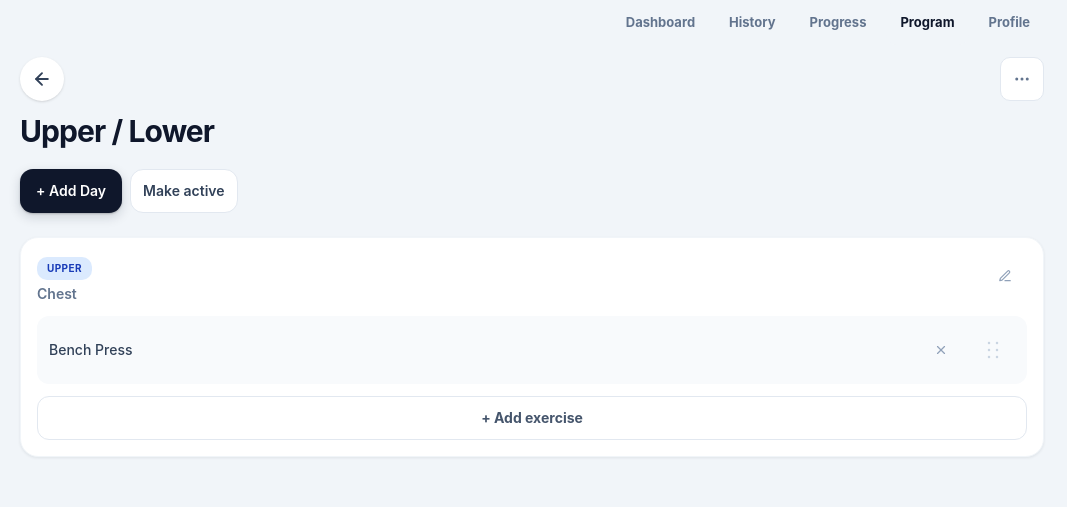
Scenario: program editor page actions › activates an inactive program through the existing safeguard
The image size is (1067, 507).
Click the button named "More actions for Upper / Lower" at (1022, 79), box [1000,57,1044,101]
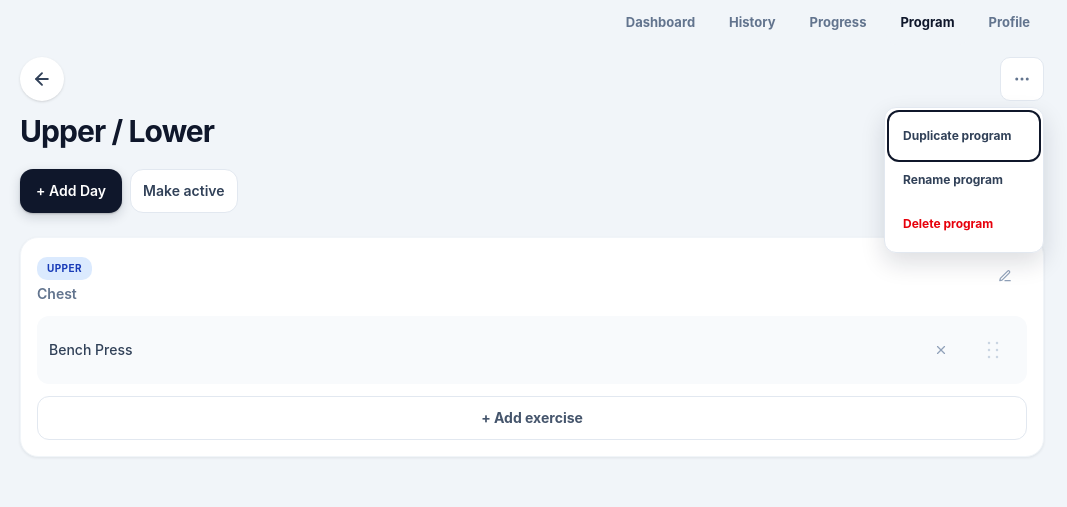
Press Escape in the menu, box [884,107,1044,253]
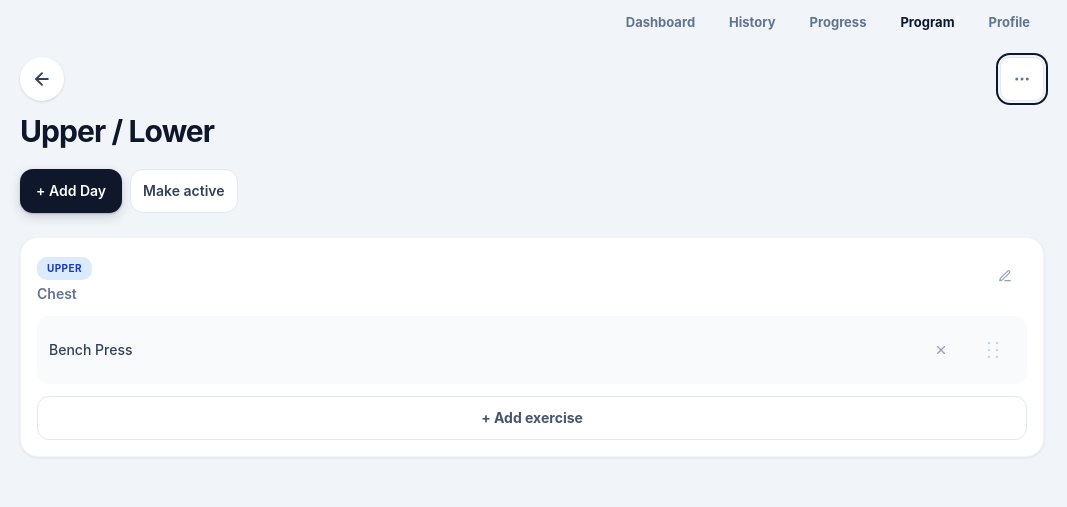
Click the button "Make active" at (184, 191), box [130,169,238,213]
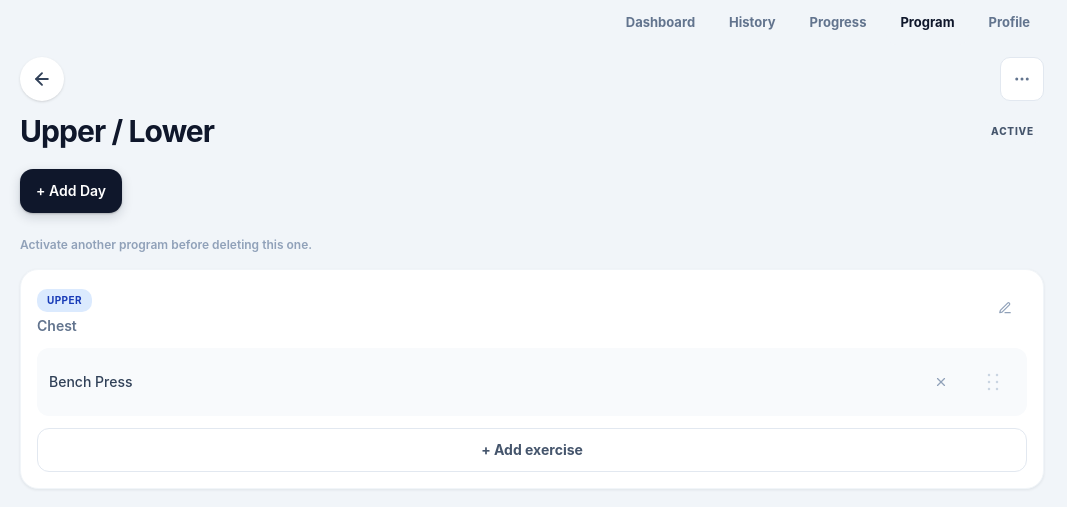
Check: the text "Active" is shown, box [981,120,1044,142]
Check: the button "Make active" is gone
